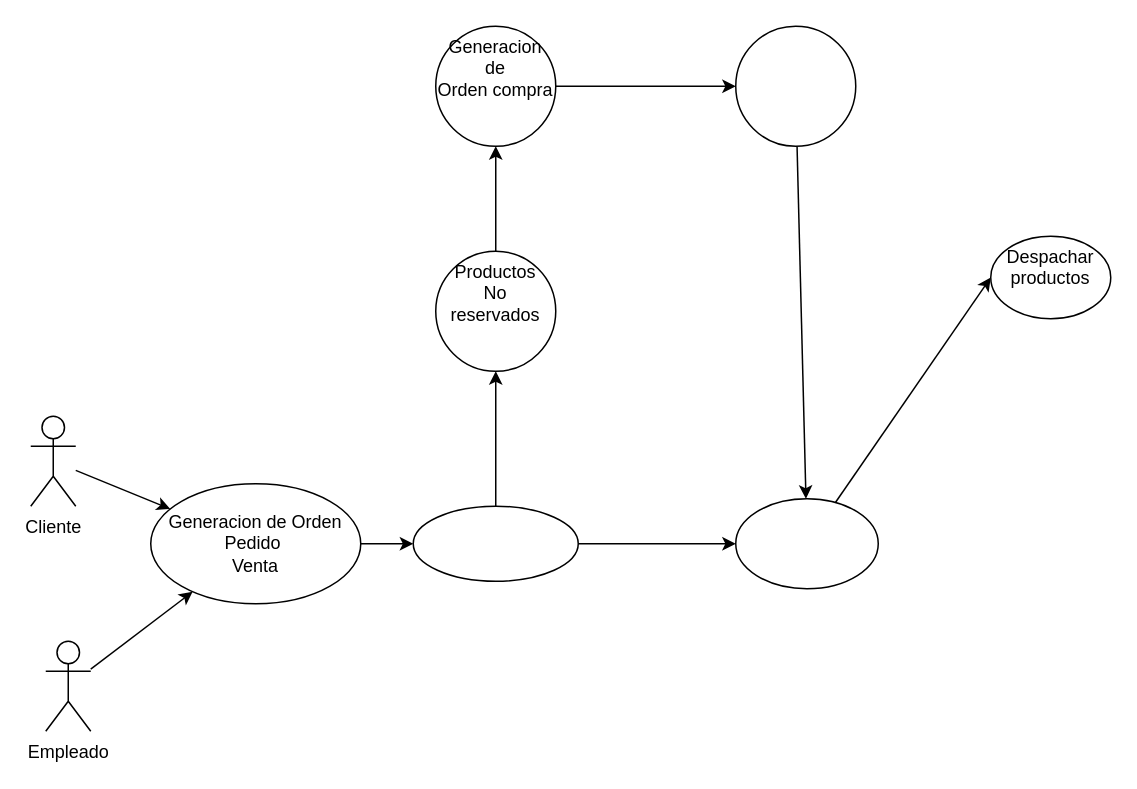
Some shapes in this 1137 by 789 pixel diagram are drawn without their labels. The shapes that lost their labels are listed below. From the top down, each one's box as (x1, y1, x2, y2) in pixels, then its label:
(734, 25, 856, 146): Recepción de Productos
(412, 505, 578, 581): Aprobación
(734, 497, 878, 589): Reserva de Producto
